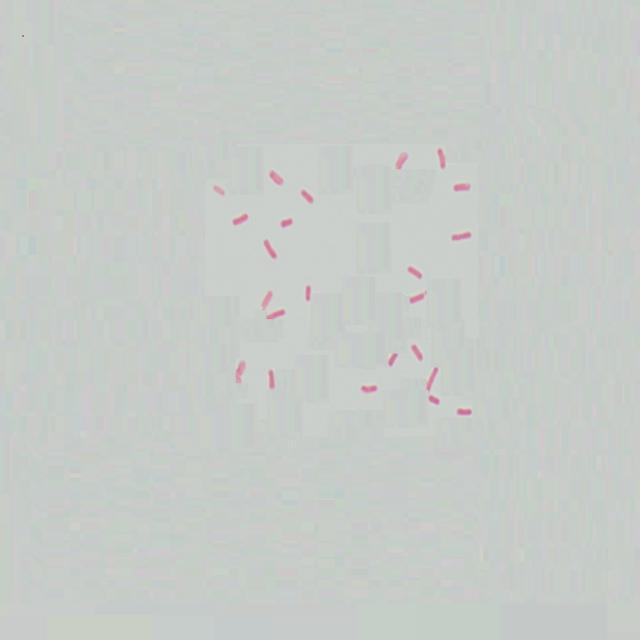E-coli: (299, 185, 317, 210), (450, 225, 473, 244), (261, 233, 276, 261), (268, 167, 287, 189), (450, 179, 472, 197), (229, 210, 248, 230), (393, 150, 409, 173), (407, 260, 425, 280), (410, 286, 430, 304), (410, 342, 427, 363), (435, 144, 448, 171), (266, 308, 290, 322), (209, 182, 227, 200), (302, 281, 316, 303), (455, 405, 474, 421), (427, 368, 440, 391), (386, 348, 399, 369), (266, 365, 276, 392), (357, 385, 380, 396), (261, 288, 273, 309), (236, 359, 246, 383), (428, 391, 442, 407), (280, 215, 294, 231)
